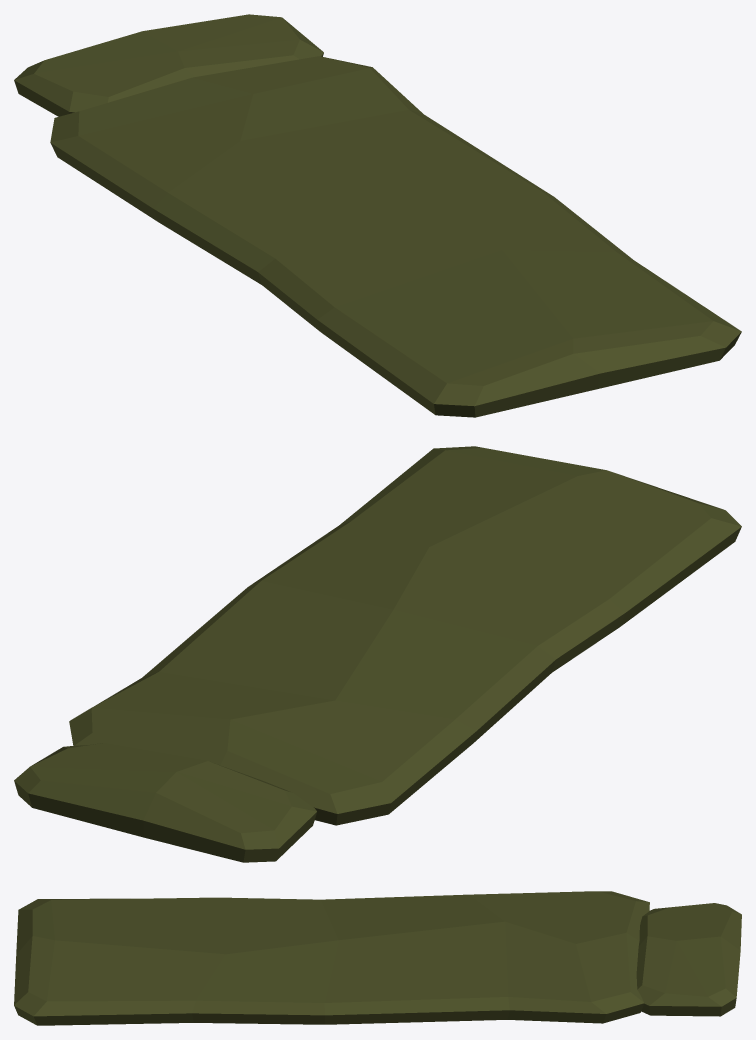
Rendered from SM_Prop_Bed_SleepingBag_01.fbx.
The picture shows the model from 3 angles, top to bottom: view 1: azimuth 30°, elevation 25°; view 2: azimuth 150°, elevation 25°; view 3: azimuth 270°, elevation 25°; orthographic projection. The views are drawn at different scales.
Visible parts, largest first — view 1: SM_Prop_Bed_SleepingBag_01; view 2: SM_Prop_Bed_SleepingBag_01; view 3: SM_Prop_Bed_SleepingBag_01.
Boxes of the visible parts, box(x1,y1,x2,y2) form: SM_Prop_Bed_SleepingBag_01: box(14, 14, 741, 417); SM_Prop_Bed_SleepingBag_01: box(14, 446, 741, 862); SM_Prop_Bed_SleepingBag_01: box(14, 891, 741, 1025).
Bounding box in the file's own units: 91.04 × 9.51 × 224.
